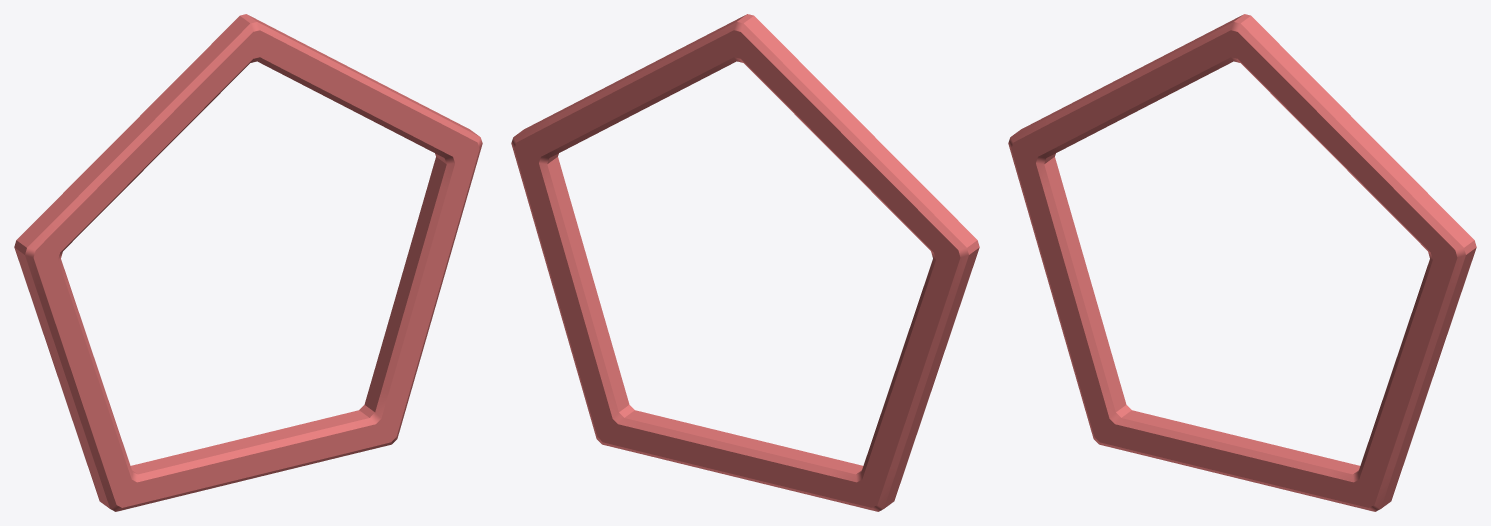
Rendered from p_PentagonRing.fbx.
3 renders of one model, left to right at view 1: azimuth 30°, elevation 25°; view 2: azimuth 150°, elevation 25°; view 3: azimuth 330°, elevation 25°, orthographic.
Parts seen in each view (by area): view 1: p_PentagonRing; view 2: p_PentagonRing; view 3: p_PentagonRing.
Boxes of the visible parts, bbox=[...] form: p_PentagonRing: bbox=[14, 14, 482, 511]; p_PentagonRing: bbox=[511, 14, 979, 511]; p_PentagonRing: bbox=[1008, 14, 1476, 511].
Bounding box in the file's own units: 1.63 × 1.55 × 0.1.
